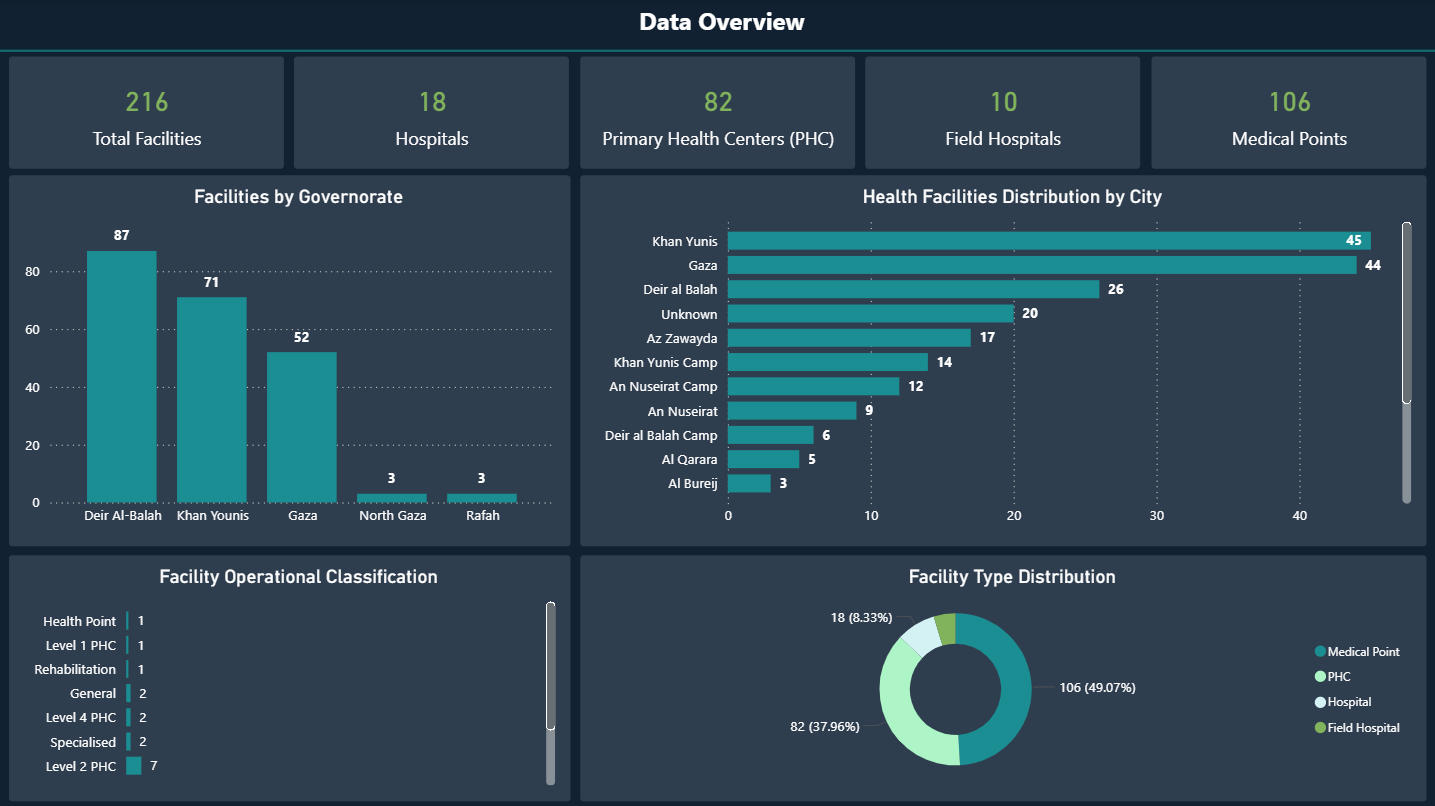

What the dashboard file says about the page in this screenshot:
{"tool":"powerbi","page":{"name":"Data Overview","canvas":[1280,720],"ordinal":1},"visuals":[{"type":"clusteredColumnChart","title":"Facilities by Governorate","fields":{"Category":["governorates.GovernorateName_English_02"],"Y":["health_facilities.Total Facilities"]},"box":[8.8,157.5,500,330],"z":0},{"type":"barChart","title":"Facility Operational Classification","fields":{"Category":["health_facilities.CLASSIFICATION"],"Y":["CountNonNull(health_facilities.HSPID)"]},"box":[8.7,495.7,500,218.8],"z":1000},{"type":"donutChart","title":"Facility Type Distribution","fields":{"Y":["CountNonNull(health_facilities.HSPID)"],"Category":["health_facilities.TYPE"]},"box":[517.4,495.7,753.6,218.8],"z":2000},{"type":"textbox","box":[326.2,0,635,40],"z":3000},{"type":"shape","box":[0,36.2,1280,18.8],"z":4000},{"type":"card","fields":{"Values":["health_facilities.Total Facilities"]},"box":[8.8,51,245,100],"z":5000},{"type":"card","fields":{"Values":["health_facilities.Hospitals"]},"box":[263.1,51,245,100],"z":6000},{"type":"card","fields":{"Values":["health_facilities.Field Hospitals"]},"box":[771.9,51,245,100],"z":7000},{"type":"card","fields":{"Values":["health_facilities.PHC"]},"box":[517.5,51,245,100],"z":8000},{"type":"card","fields":{"Values":["health_facilities.Medical Points"]},"box":[1026.2,51,245,100],"z":9000},{"type":"clusteredBarChart","title":"Health Facilities Distribution by City","fields":{"Category":["health_facilities.CITY"],"Y":["CountNonNull(health_facilities.HSPID)"]},"box":[517.5,157.5,753.8,330],"z":10000}]}

Visuals, with their boxes in screenshot pixels (x1, y1, x2, y2), scaled from the page's 1280x720 canvas onto the 1435x806 screenshot:
"Facilities by Governorate" clusteredColumnChart: BBox(10, 176, 570, 546)
"Facility Operational Classification" barChart: BBox(10, 555, 570, 800)
"Facility Type Distribution" donutChart: BBox(580, 555, 1425, 800)
textbox: BBox(366, 0, 1078, 45)
shape: BBox(0, 41, 1434, 62)
card - health_facilities.Total Facilities: BBox(10, 57, 285, 169)
card - health_facilities.Hospitals: BBox(295, 57, 570, 169)
card - health_facilities.Field Hospitals: BBox(865, 57, 1140, 169)
card - health_facilities.PHC: BBox(580, 57, 855, 169)
card - health_facilities.Medical Points: BBox(1150, 57, 1425, 169)
"Health Facilities Distribution by City" clusteredBarChart: BBox(580, 176, 1425, 546)
